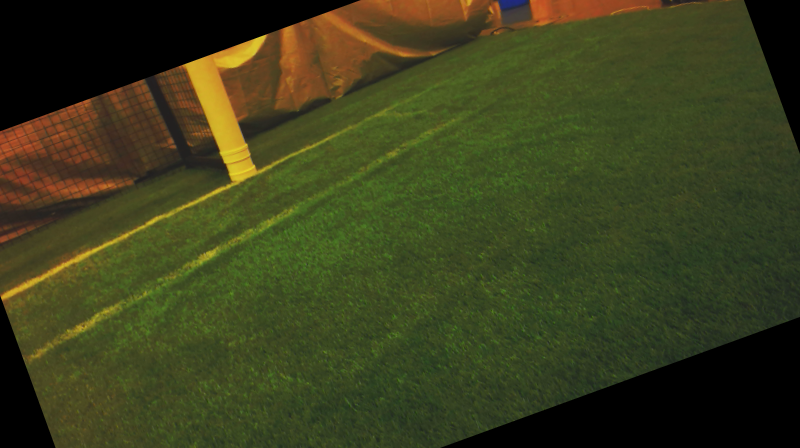post: (201, 142, 275, 193)
